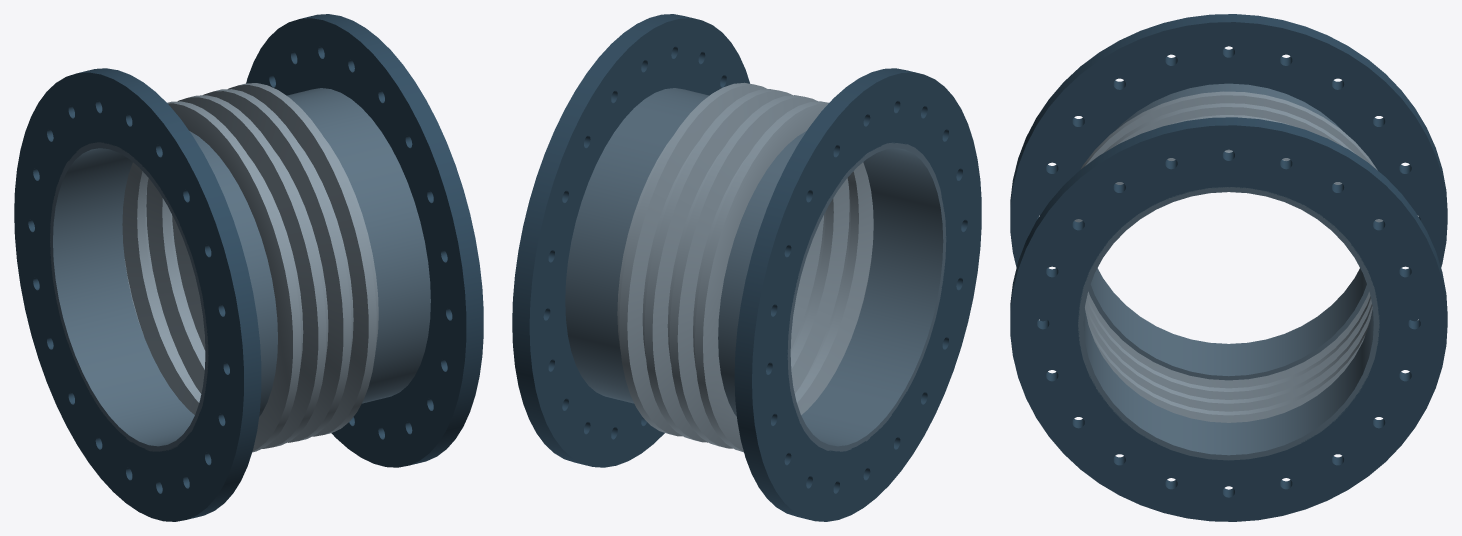
The model's file is flan-dn700-L698-D800-f-o910.glb.
3 views of the same model, side by side, from view 1: azimuth 30°, elevation 25°; view 2: azimuth 150°, elevation 25°; view 3: azimuth 270°, elevation 25° (orthographic). The views are drawn at different scales.
Visible parts, largest first — view 1: prokladka_silfon_1, homut_flanec_1, homut_flanec_2, patrubok_1, patrubok_2; view 2: prokladka_silfon_1, homut_flanec_1, homut_flanec_2, patrubok_1, patrubok_2; view 3: homut_flanec_2, homut_flanec_1, prokladka_silfon_1, patrubok_2, patrubok_1.
Boxes of the visible parts, x1,y1,x2,y2 form: prokladka_silfon_1: [122, 83, 378, 452]; homut_flanec_1: [14, 68, 261, 521]; homut_flanec_2: [246, 14, 483, 467]; patrubok_1: [50, 131, 277, 451]; patrubok_2: [287, 88, 430, 403]; prokladka_silfon_1: [617, 82, 873, 452]; homut_flanec_1: [734, 68, 981, 521]; homut_flanec_2: [512, 14, 749, 467]; patrubok_1: [718, 131, 946, 451]; patrubok_2: [565, 88, 708, 403]; homut_flanec_2: [1010, 117, 1447, 521]; homut_flanec_1: [1010, 14, 1447, 321]; prokladka_silfon_1: [1074, 91, 1382, 422]; patrubok_2: [1078, 187, 1379, 460]; patrubok_1: [1088, 83, 1369, 380].
Size of the model in its own units: 698 by 1160 by 1159.
